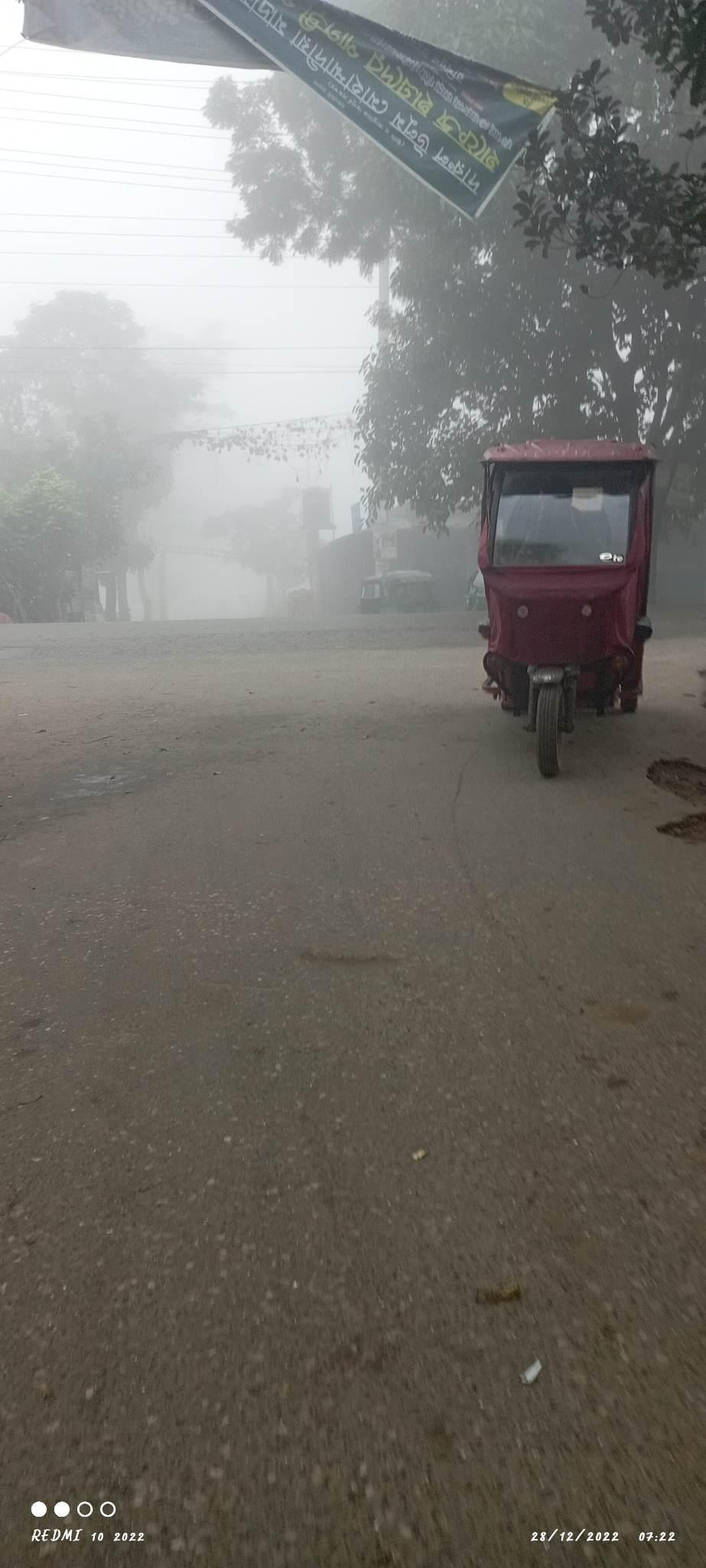Car: (429, 401, 670, 792)
